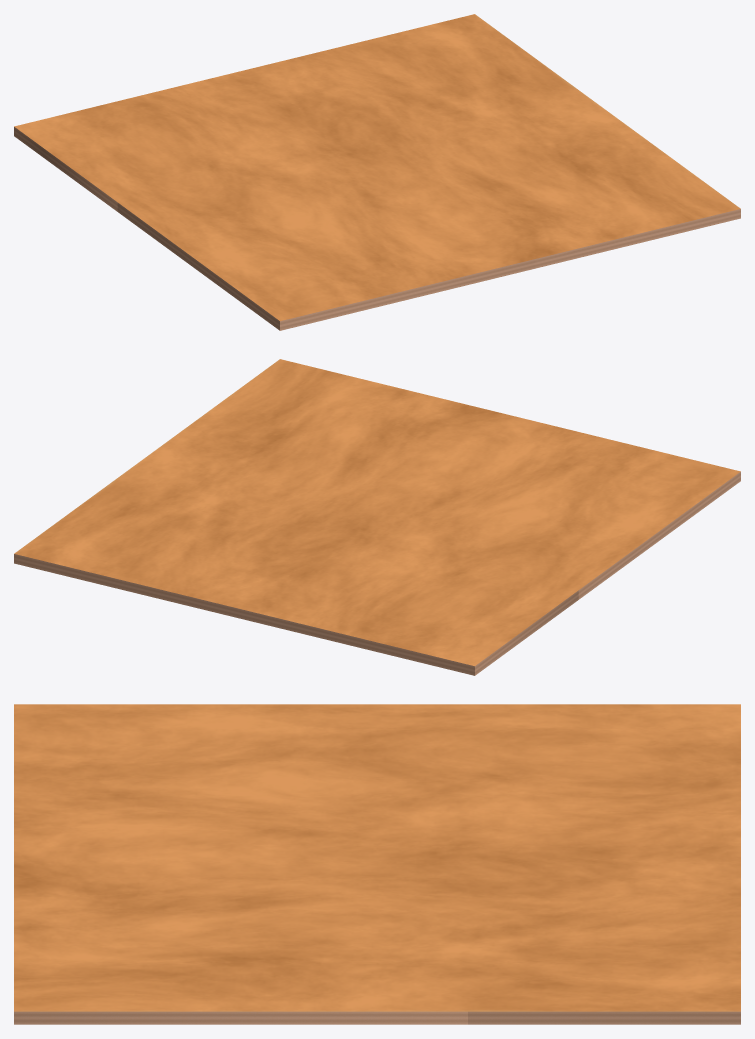
Rendered from BrokenPlywood.fbx.
The picture shows the model from 3 angles, top to bottom: view 1: azimuth 30°, elevation 25°; view 2: azimuth 150°, elevation 25°; view 3: azimuth 270°, elevation 25°; orthographic projection. The views are drawn at different scales.
Parts seen in each view (by area): view 1: plywood_2, plywood_4, plywood_3, plywood_5; view 2: plywood_2, plywood_4, plywood_3, plywood_5; view 3: plywood_2, plywood_4, plywood_3, plywood_5.
Part boxes in pixels (<box>): plywood_2: <box>117,140,559,330</box>; plywood_4: <box>381,80,740,268</box>; plywood_3: <box>14,73,380,211</box>; plywood_5: <box>232,14,574,140</box>; plywood_2: <box>320,409,740,599</box>; plywood_4: <box>114,359,484,524</box>; plywood_3: <box>256,525,578,675</box>; plywood_5: <box>14,481,319,622</box>; plywood_2: <box>14,704,456,916</box>; plywood_4: <box>14,874,551,1024</box>; plywood_3: <box>377,704,740,877</box>; plywood_5: <box>451,839,740,1024</box>.
Size of the model in its own units: 2 by 0.04 by 2.
